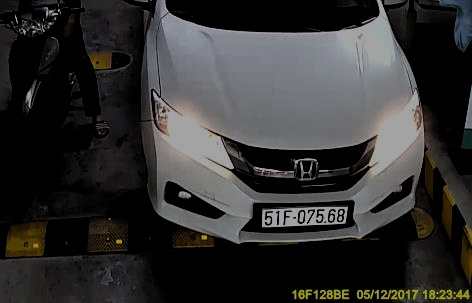plate: (260, 203, 354, 231)
